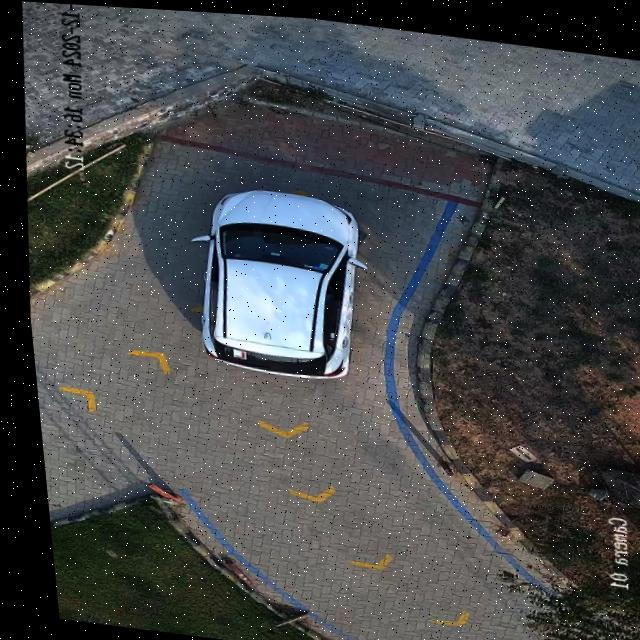car: (188, 182, 360, 375)
